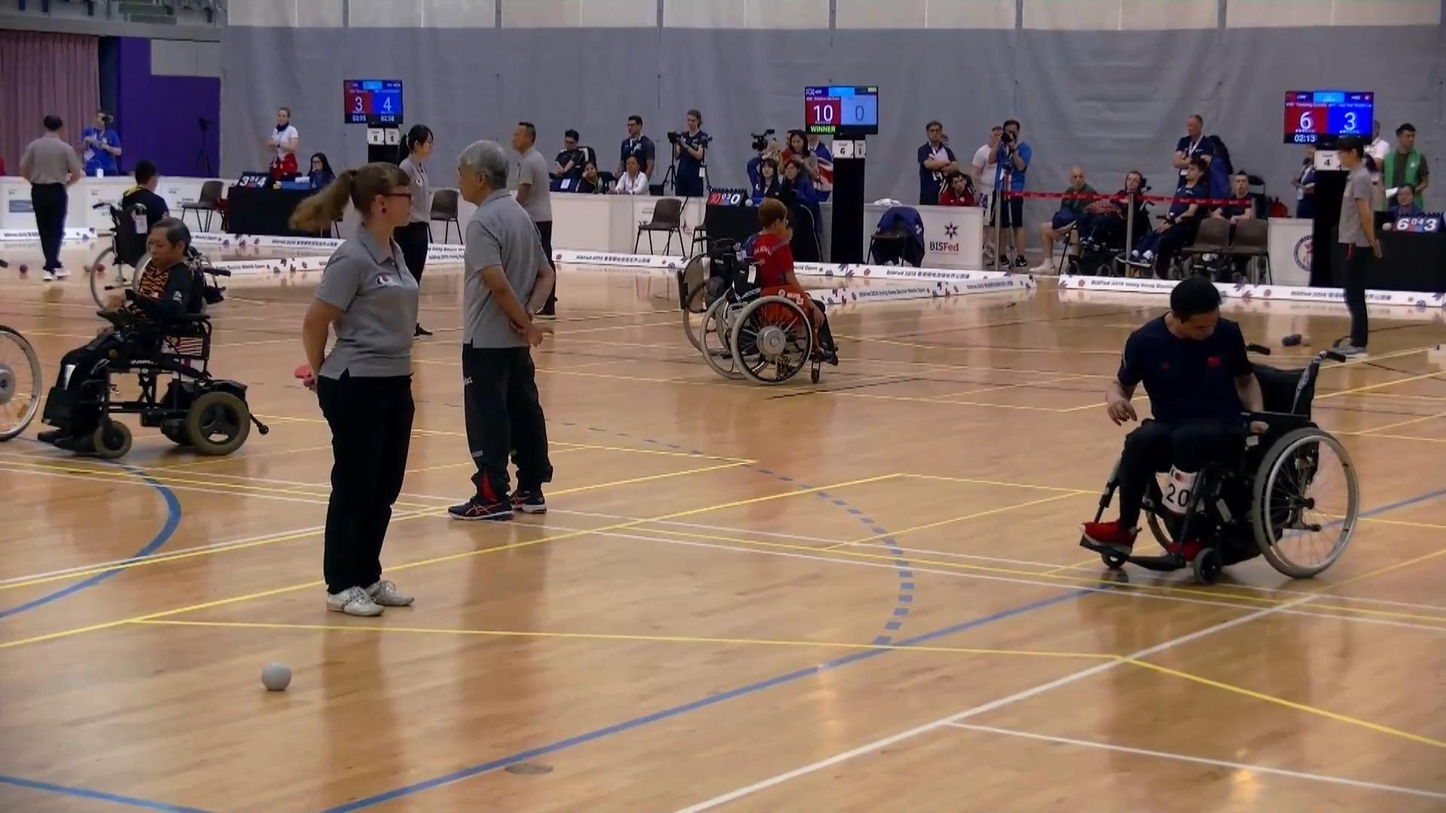white_ball: (261, 662, 291, 688)
